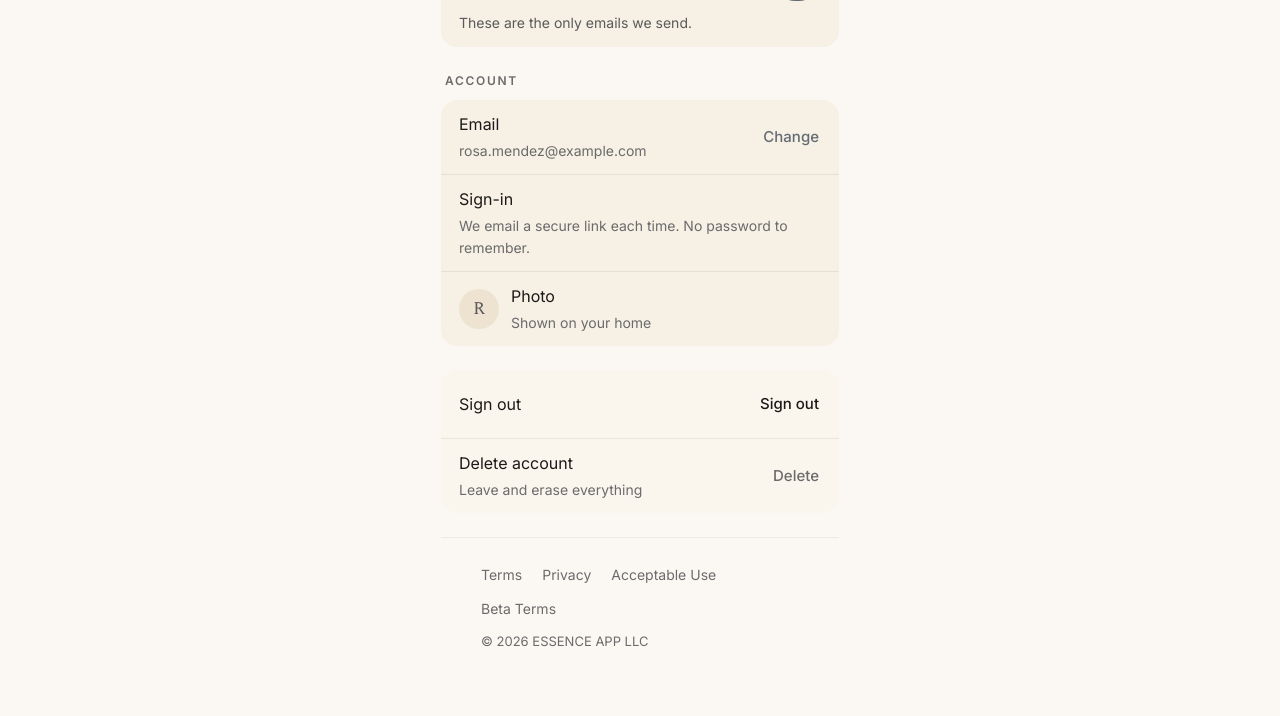
Scenario: delete teardown terminals (never "closed" without an ok result) › keeps "Delete everything" disabled until the word matches
The image size is (1280, 716).
(page scrolled)
Click the button "Delete".
click(796, 476)  # box [771, 454, 821, 498]
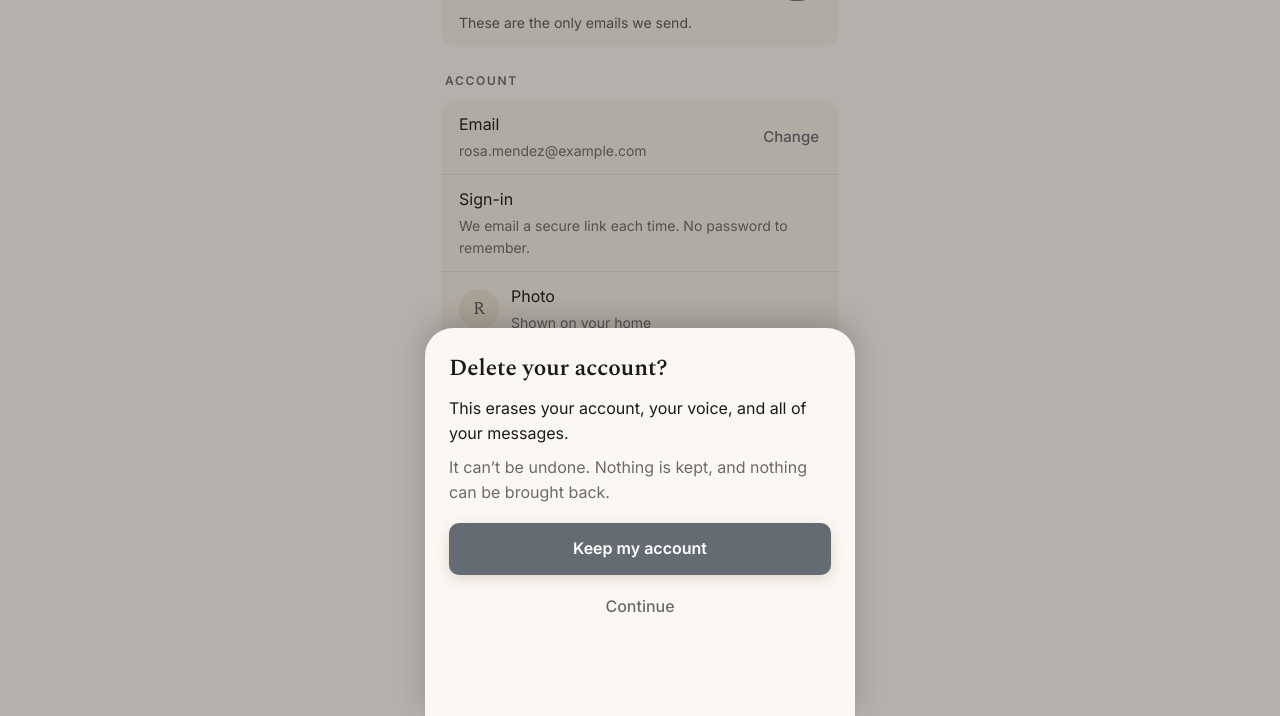
Click the button "Continue".
click(640, 607)  # box [449, 585, 831, 629]
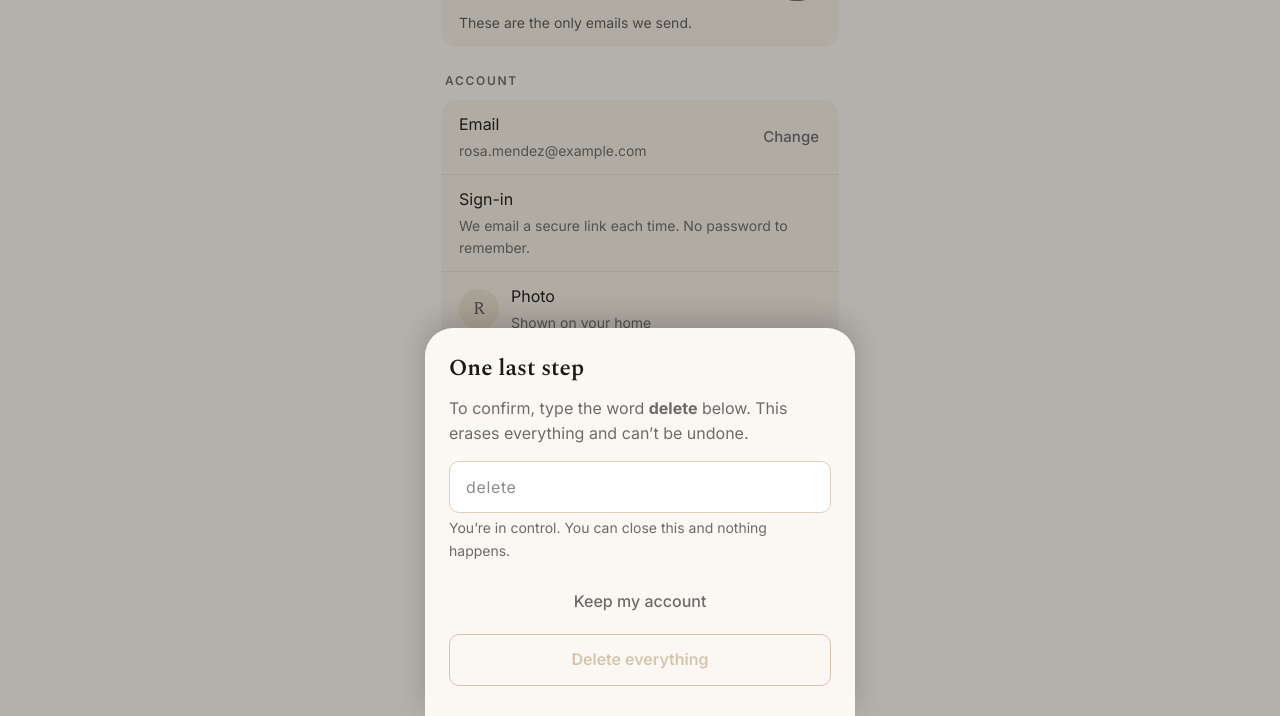
Result: the button "Delete everything" is disabled at [449, 634, 831, 686]
Type "nope" into the field named "Type delete to confirm".
click(640, 487); type("nope")  # box [449, 461, 831, 513]
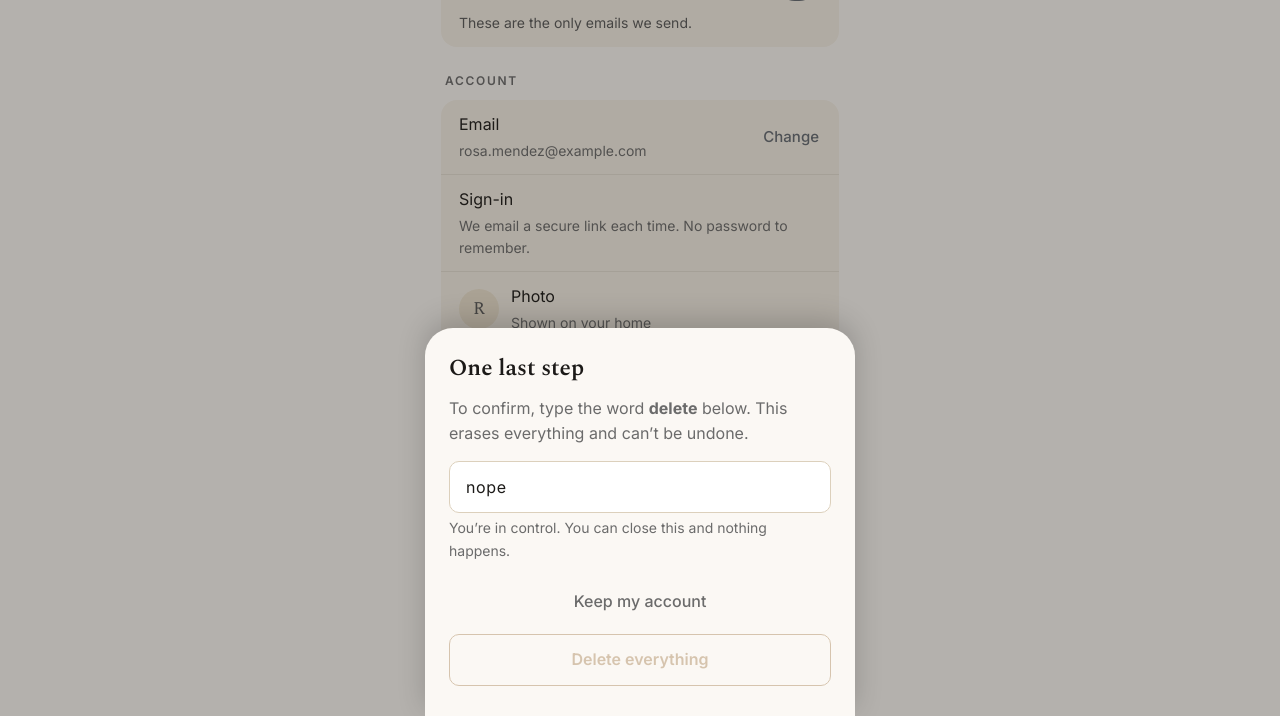
Result: the button "Delete everything" is disabled at [449, 634, 831, 686]
Replace the text in the field named "Type delete to confirm" with " delete " at coordinates (640, 487), box [449, 461, 831, 513]
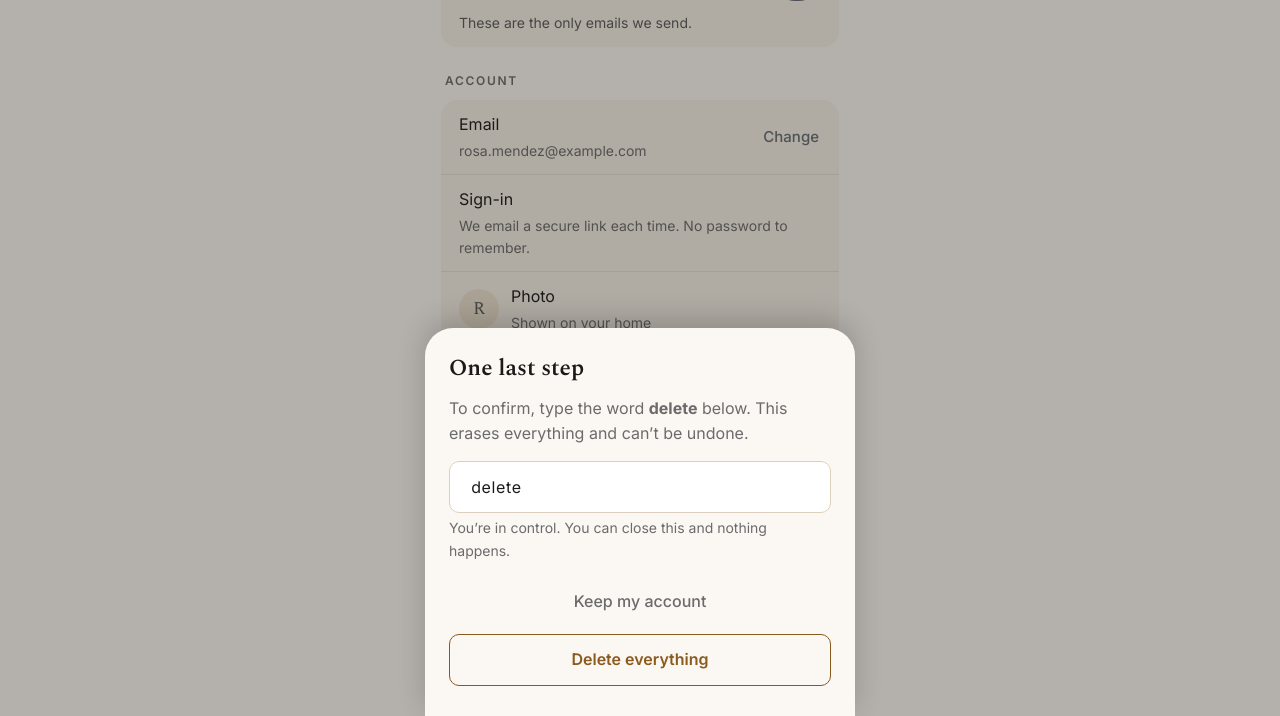
Result: the button "Delete everything" is enabled at [449, 634, 831, 686]
